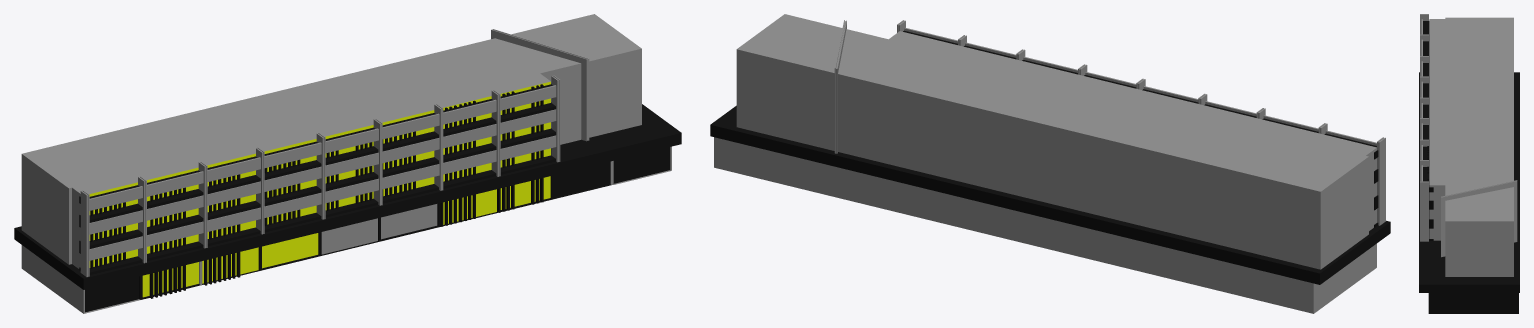
Rendered from arLandsbank.FBX.
3 renders of one model, left to right at view 1: azimuth 30°, elevation 25°; view 2: azimuth 150°, elevation 25°; view 3: azimuth 270°, elevation 25°, orthographic. The views are drawn at different scales.
Visible parts, largest first — view 1: arbejderneslandsbank; view 2: arbejderneslandsbank; view 3: arbejderneslandsbank.
Boxes of the visible parts, <box> form: arbejderneslandsbank: <box>14,14,681,313</box>; arbejderneslandsbank: <box>710,14,1390,313</box>; arbejderneslandsbank: <box>1419,14,1519,313</box>.
Bounding box in the file's own units: 1398 × 281 × 281.
